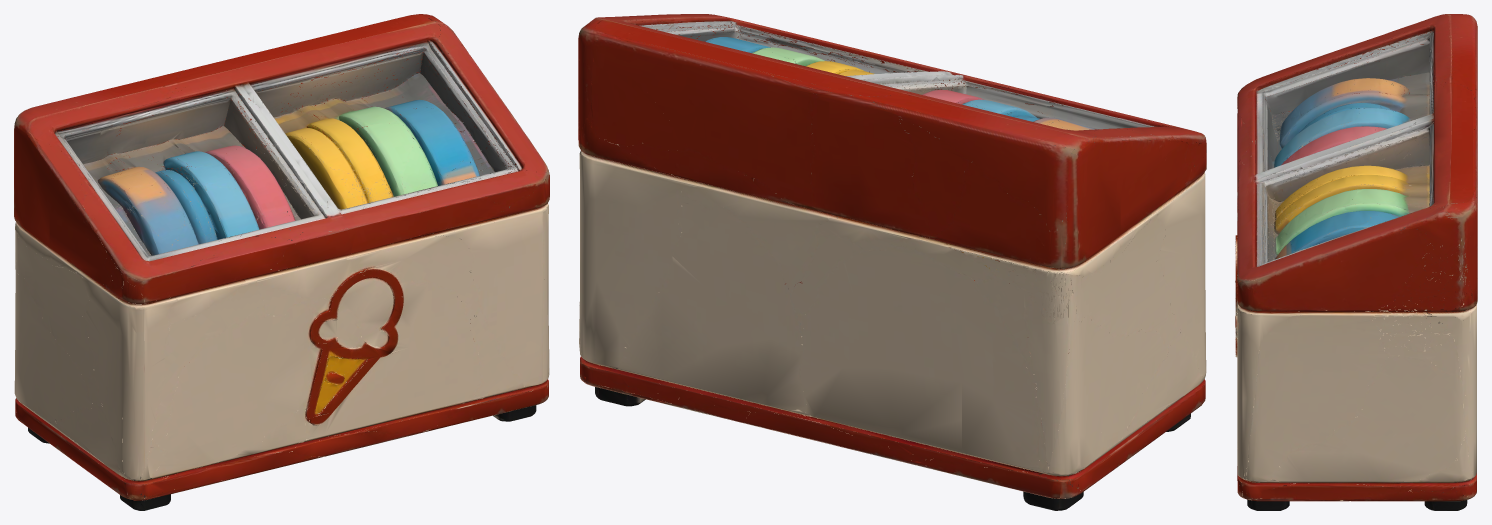
The model's file is freezer-optimized.glb.
The picture shows the model from 3 angles, left to right: view 1: azimuth 30°, elevation 25°; view 2: azimuth 150°, elevation 25°; view 3: azimuth 270°, elevation 25°; orthographic projection. The views are drawn at different scales.
Parts seen in each view (by area): view 1: node_0; view 2: node_0; view 3: node_0.
Part boxes in pixels (x1=…): node_0: x1=14, y1=14, x2=549, y2=510; node_0: x1=578, y1=14, x2=1206, y2=510; node_0: x1=1235, y1=14, x2=1477, y2=510.
Bounding box in the file's own units: 0.9332 × 0.6675 × 0.475.
1 material, 1 textured.
